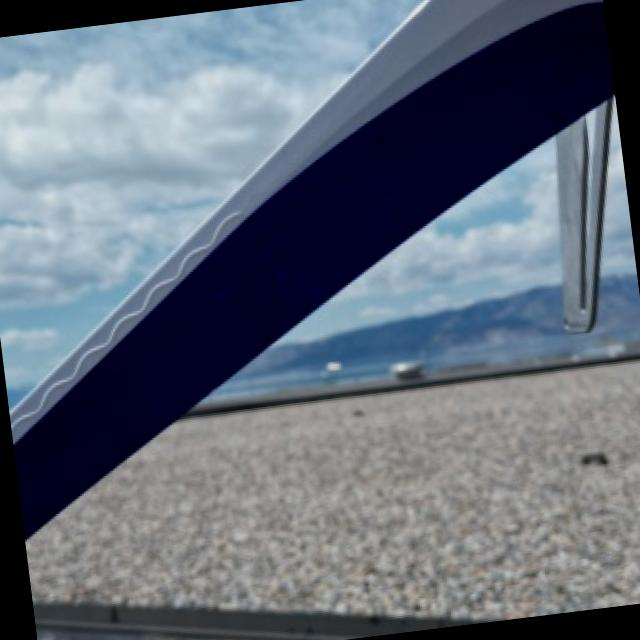healthy: (213, 254, 640, 395), (33, 603, 446, 640)
